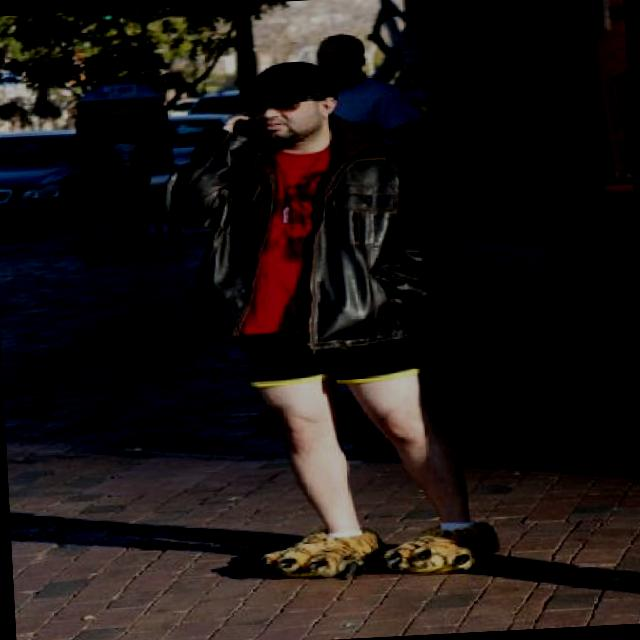Person: (150, 52, 508, 592), (314, 29, 441, 162)
